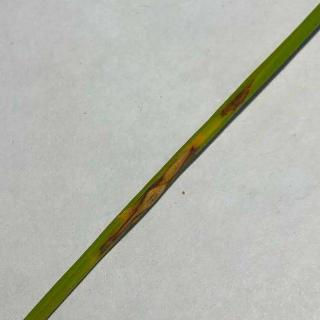Blast: (154, 140, 210, 210), (213, 85, 264, 123)
